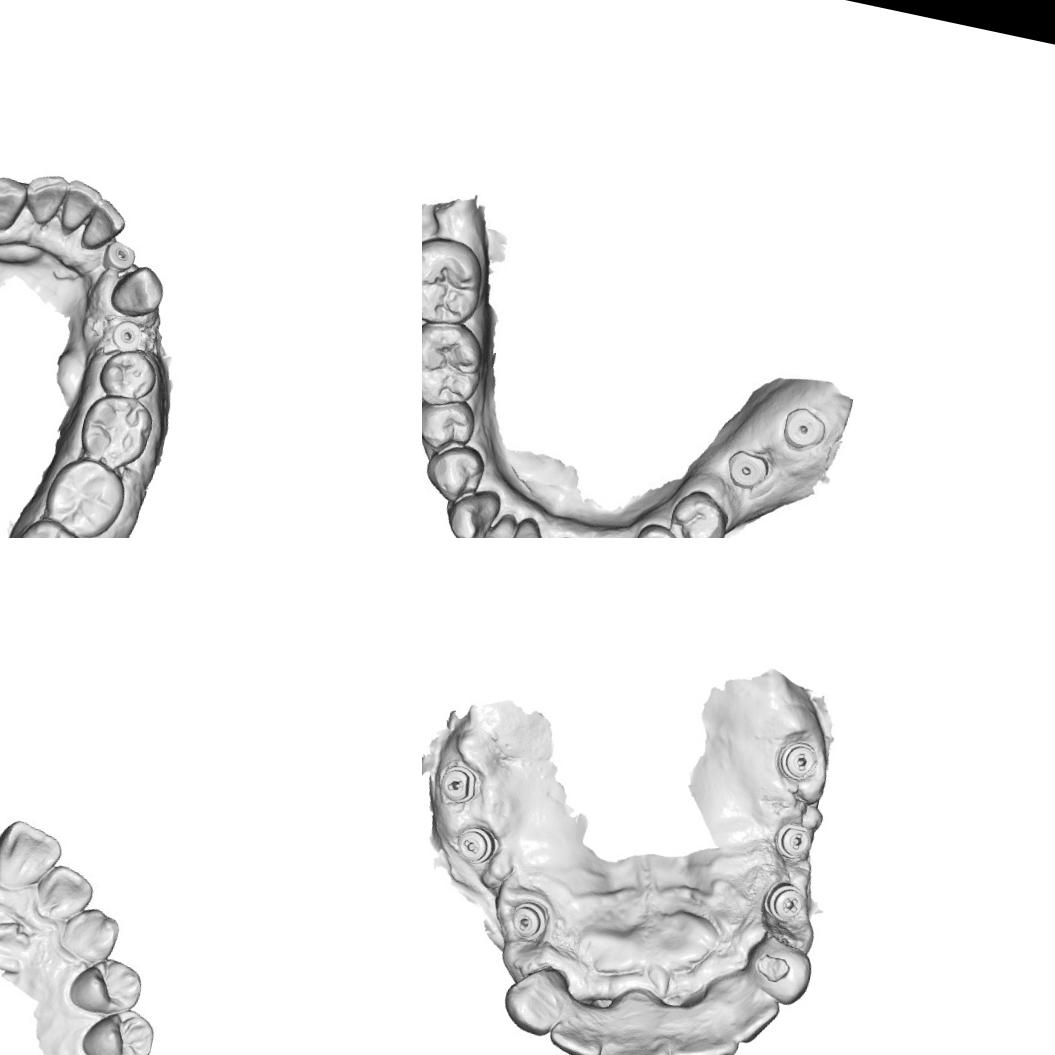canine: (496, 958, 576, 1042), (740, 930, 820, 1012), (56, 900, 128, 968), (106, 260, 170, 322), (438, 483, 503, 538), (0, 169, 30, 236)
implant: (775, 400, 831, 460), (723, 444, 772, 494), (104, 314, 154, 360), (95, 232, 143, 278)
implant_minus: (774, 735, 825, 787), (768, 816, 818, 866), (504, 895, 553, 945), (433, 759, 481, 810), (450, 820, 501, 868)
implant_plus: (757, 876, 813, 926)
incisor: (706, 975, 785, 1052), (592, 986, 680, 1055), (0, 814, 66, 897), (662, 992, 748, 1055), (32, 860, 98, 924), (543, 998, 613, 1055), (18, 166, 74, 232), (76, 194, 130, 260), (53, 176, 105, 241), (471, 511, 524, 538), (502, 511, 550, 538)
molar: (35, 452, 132, 538), (75, 388, 162, 482), (422, 227, 491, 331), (422, 317, 488, 412), (2, 510, 94, 538)
premolar: (65, 954, 151, 1024), (77, 995, 162, 1055), (94, 344, 166, 409), (422, 440, 488, 507), (662, 485, 734, 538), (422, 392, 477, 455), (625, 518, 689, 538)
